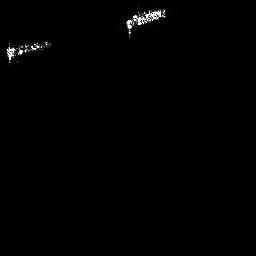ship: (123, 6, 168, 41), (3, 38, 55, 67)
